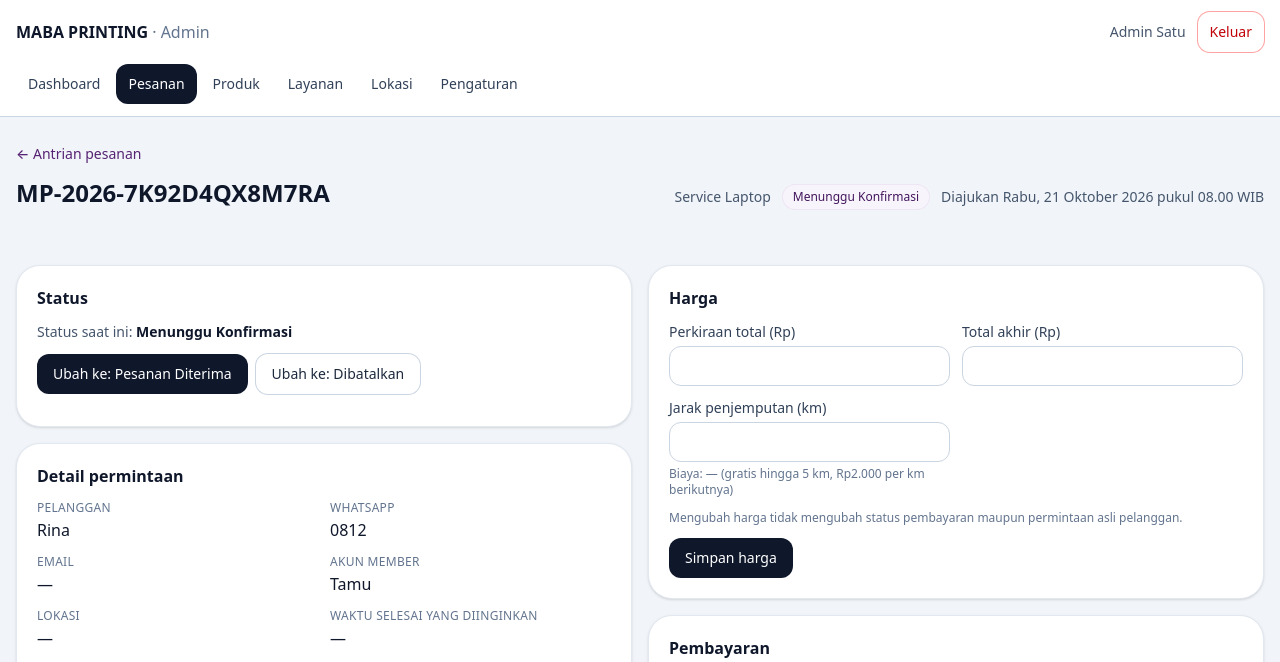
Admin order detail › offers only the allowed transitions and sends the expected current status
Click the button "Ubah ke: Pesanan Diterima".
click(142, 374)  # box [37,354,248,394]
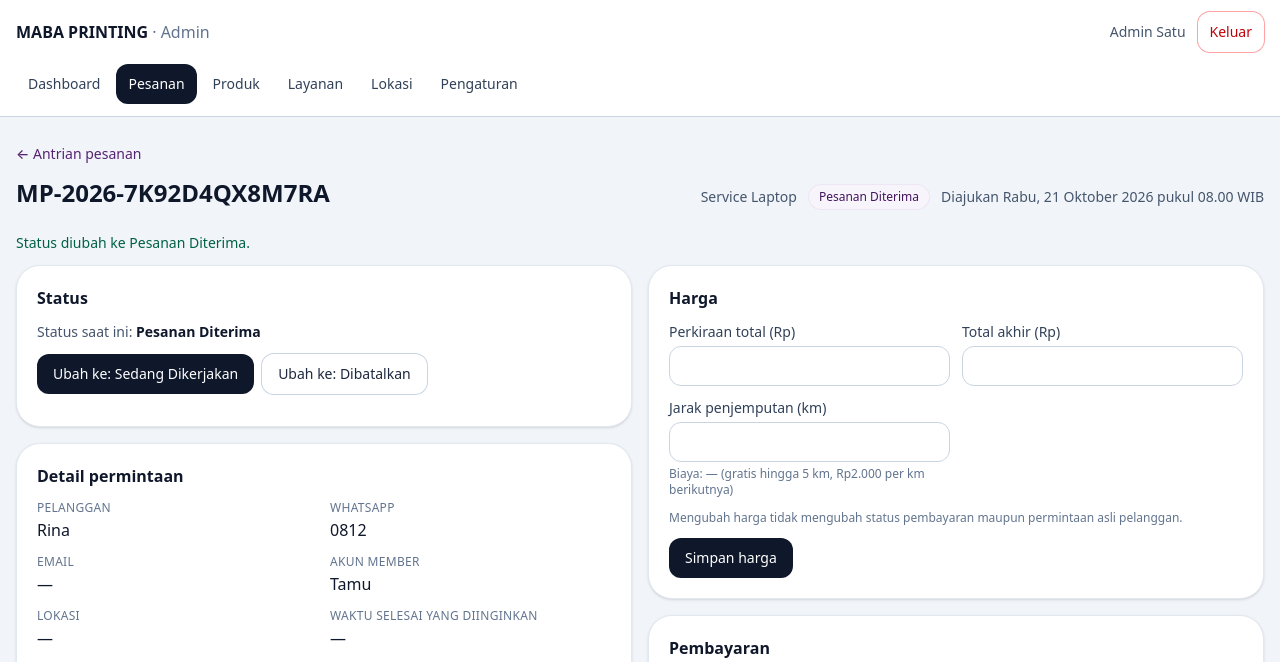
Expected: the text "Status diubah ke Pesanan Diterima." is shown, [16,233,250,252]
Expected: the button "Ubah ke: Sedang Dikerjakan" is shown, [37,354,254,394]
